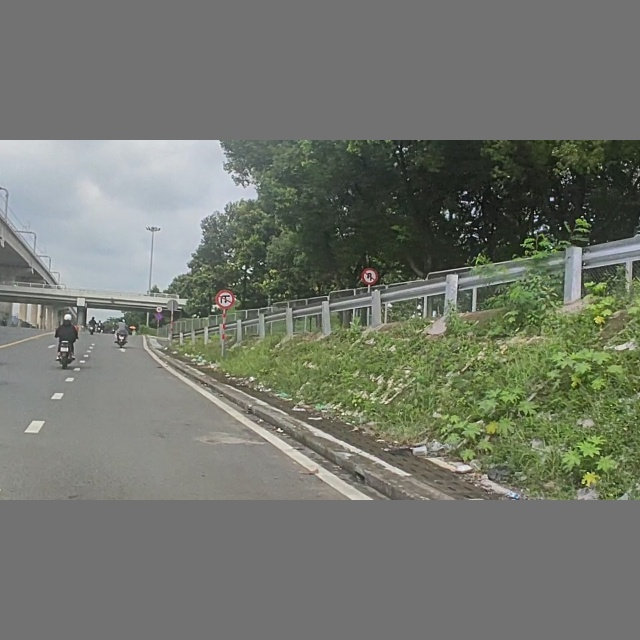P.124a*: (362, 268, 379, 285)
P.124d: (216, 289, 235, 309)
P.127*40: (155, 305, 163, 312)
P.130: (155, 313, 162, 319)
